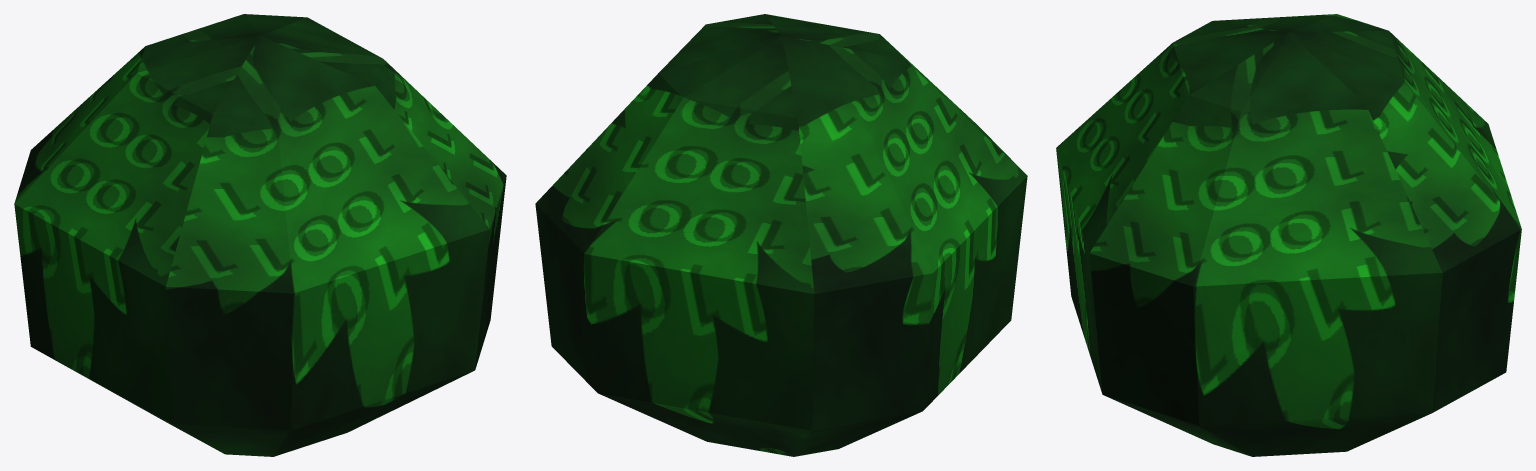
Rendered from BlockChain_CodeBush_Art.fbx.
The picture shows the model from 3 angles, left to right: view 1: azimuth 30°, elevation 25°; view 2: azimuth 150°, elevation 25°; view 3: azimuth 270°, elevation 25°; orthographic projection.
Visible parts, largest first — view 1: BlockChain_CodeBush_Art; view 2: BlockChain_CodeBush_Art; view 3: BlockChain_CodeBush_Art.
Boxes of the visible parts, x1=… form: BlockChain_CodeBush_Art: x1=14, y1=14, x2=506, y2=456; BlockChain_CodeBush_Art: x1=535, y1=14, x2=1027, y2=456; BlockChain_CodeBush_Art: x1=1056, y1=14, x2=1521, y2=456.
Bounding box in the file's own units: 320 × 293 × 320.
